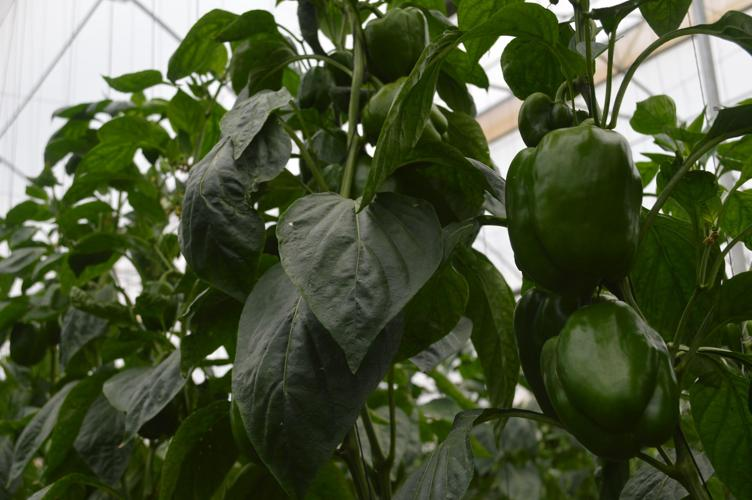BellPepper: (536, 304, 680, 456), (507, 123, 638, 283), (510, 290, 577, 416), (364, 78, 456, 152), (361, 10, 430, 75), (516, 94, 565, 140), (301, 69, 337, 111)
